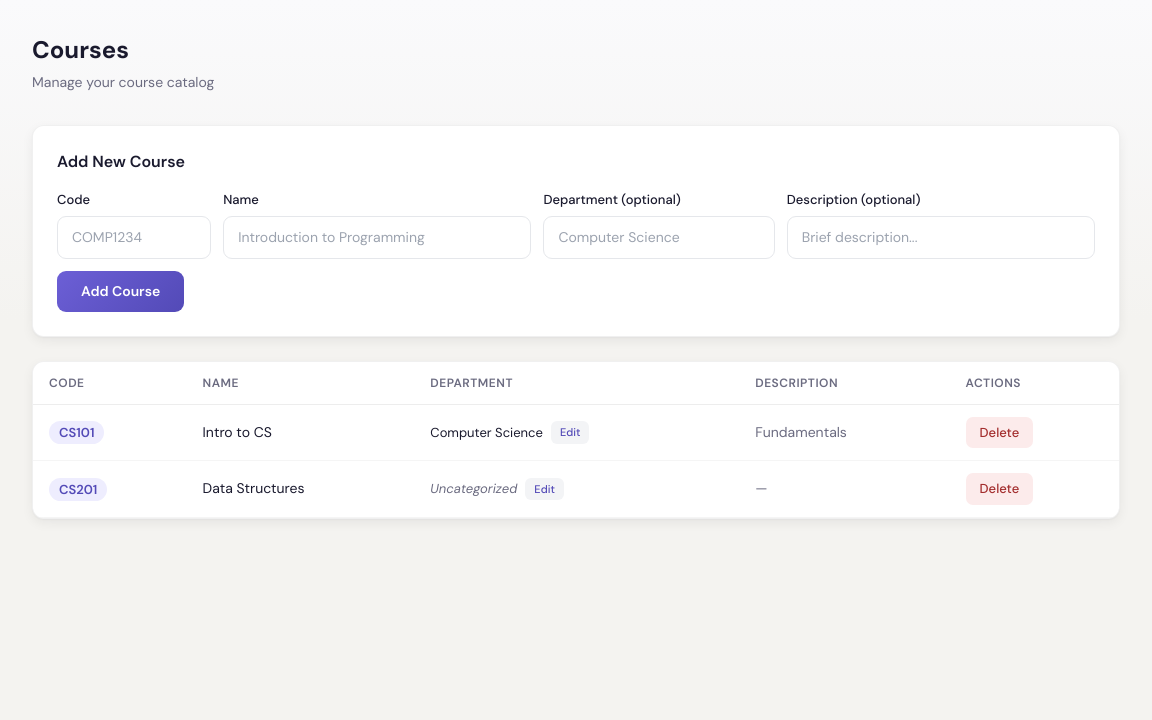
Test: AdminCourses › edits a course's department in place
Check: the text "CS201" is shown, box [49,478,107,501]
Click the button "Edit" next to "Uncategorized" at [545, 489], box [525,478,564,500]
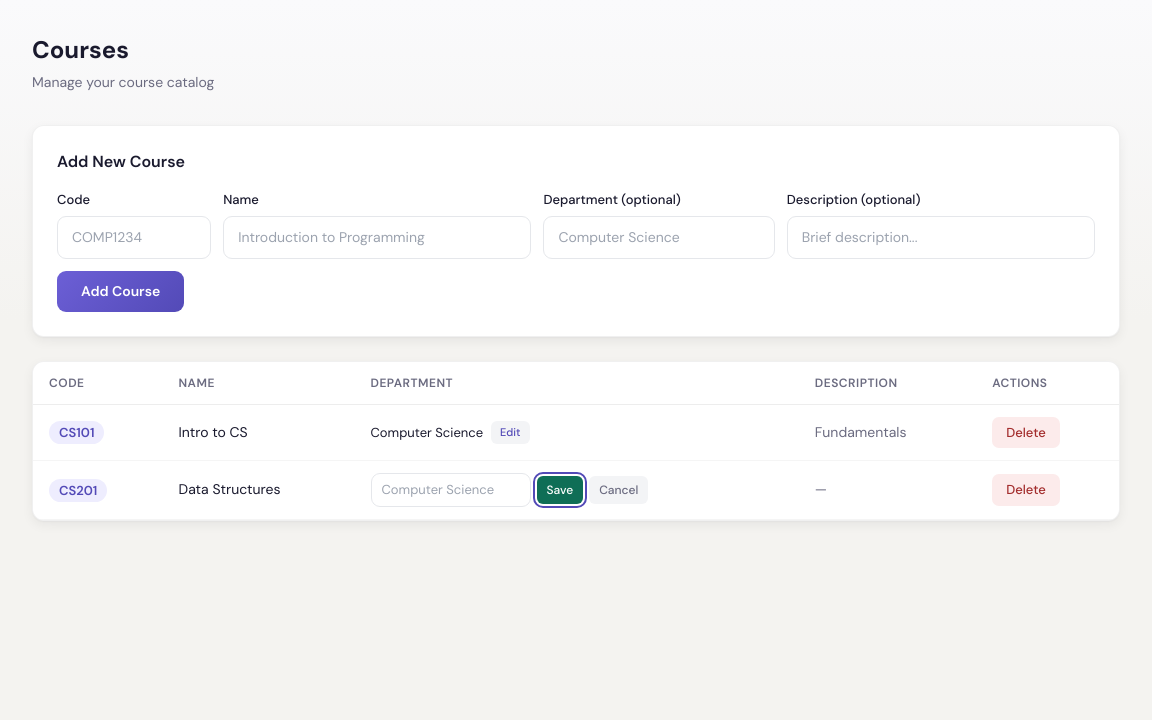
Type "Mathematics" into the field with placeholder "Computer Science" at [450, 490], box [370,473,530,506]
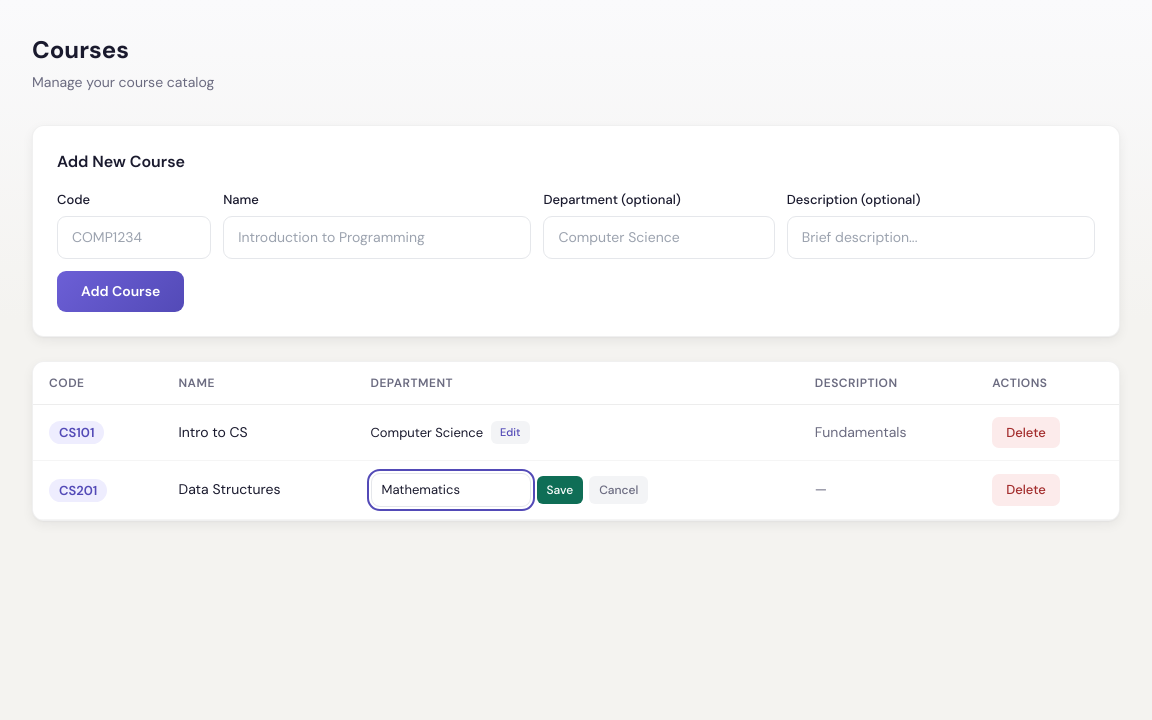
Click the button "Save" at [560, 490], box [536,476,583,504]
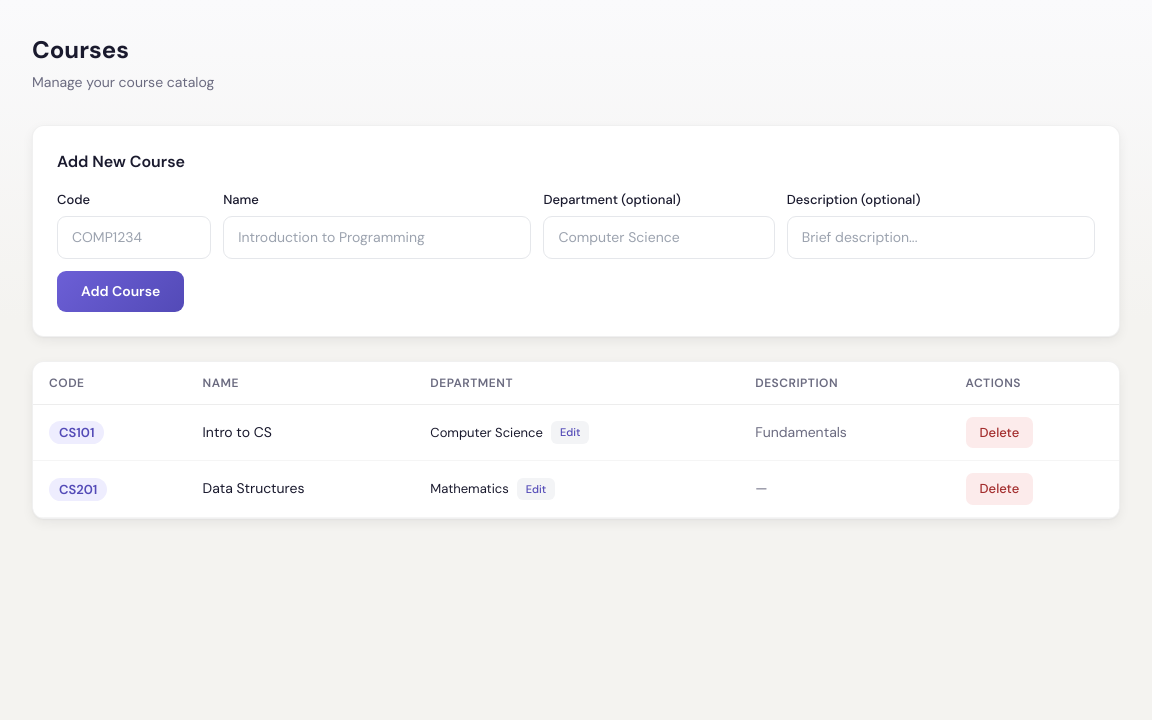
Check: the text "Mathematics" is shown, box [430,479,509,498]
